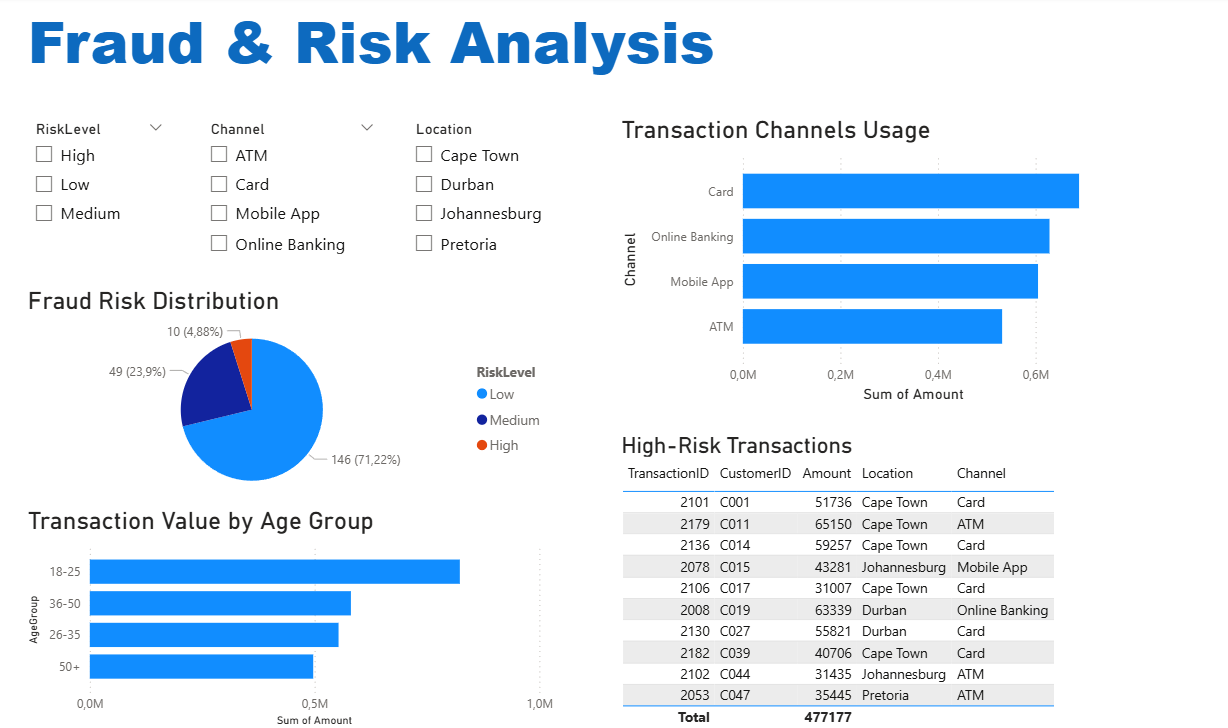

This screenshot's page, from the dashboard's own definition file:
{"tool":"powerbi","page":{"name":"Page 2","canvas":[1280,720],"ordinal":1},"visuals":[{"type":"pieChart","title":"Fraud Risk Distribution","fields":{"Category":["banking_powerbi_dataset.RiskLevel"],"Y":["CountNonNull(banking_powerbi_dataset.TransactionID)"]},"box":[28.1,283.7,524.6,215.2],"z":0},{"type":"barChart","title":"Transaction Channels Usage","fields":{"Category":["banking_powerbi_dataset.Channel"],"Y":["Sum(banking_powerbi_dataset.Amount)"]},"box":[609,116.2,476.9,286.1],"z":1000},{"type":"tableEx","title":"High-Risk Transactions","fields":{"Values":["banking_powerbi_dataset.TransactionID","banking_powerbi_dataset.CustomerID","Sum(banking_powerbi_dataset.Amount)","banking_powerbi_dataset.Location","banking_powerbi_dataset.Channel"]},"box":[609,426.8,476.9,293.5],"z":2000},{"type":"barChart","title":"Transaction Value by Age Group","fields":{"Category":["banking_powerbi_dataset.AgeGroup"],"Y":["Sum(banking_powerbi_dataset.Amount)"]},"box":[28.1,498.9,524.6,221.3],"z":3000},{"type":"slicer","fields":{"Values":["banking_powerbi_dataset.Location"]},"box":[399.9,116.2,152.9,148],"z":4000},{"type":"slicer","fields":{"Values":["banking_powerbi_dataset.Channel"]},"box":[199.3,116.2,184.6,167.5],"z":5000},{"type":"slicer","fields":{"Values":["banking_powerbi_dataset.RiskLevel"]},"box":[28.1,116.2,149.2,166.3],"z":6000},{"type":"textbox","title":"Fraud & Risk Analysis","box":[28.1,3.7,754.5,83.2],"z":7000}]}

Visuals, with their boxes on the page's 1280x720 design canvas (x1, y1, x2, y2). These are canvas units, not pixel positions in the 1228x728 screenshot, which may show the page scaled, cropped or inside an application window:
"Fraud Risk Distribution" pieChart: bbox(28, 284, 553, 499)
"Transaction Channels Usage" barChart: bbox(609, 116, 1086, 402)
"High-Risk Transactions" tableEx: bbox(609, 427, 1086, 720)
"Transaction Value by Age Group" barChart: bbox(28, 499, 553, 720)
slicer - banking_powerbi_dataset.Location: bbox(400, 116, 553, 264)
slicer - banking_powerbi_dataset.Channel: bbox(199, 116, 384, 284)
slicer - banking_powerbi_dataset.RiskLevel: bbox(28, 116, 177, 282)
"Fraud & Risk Analysis" textbox: bbox(28, 4, 783, 87)
